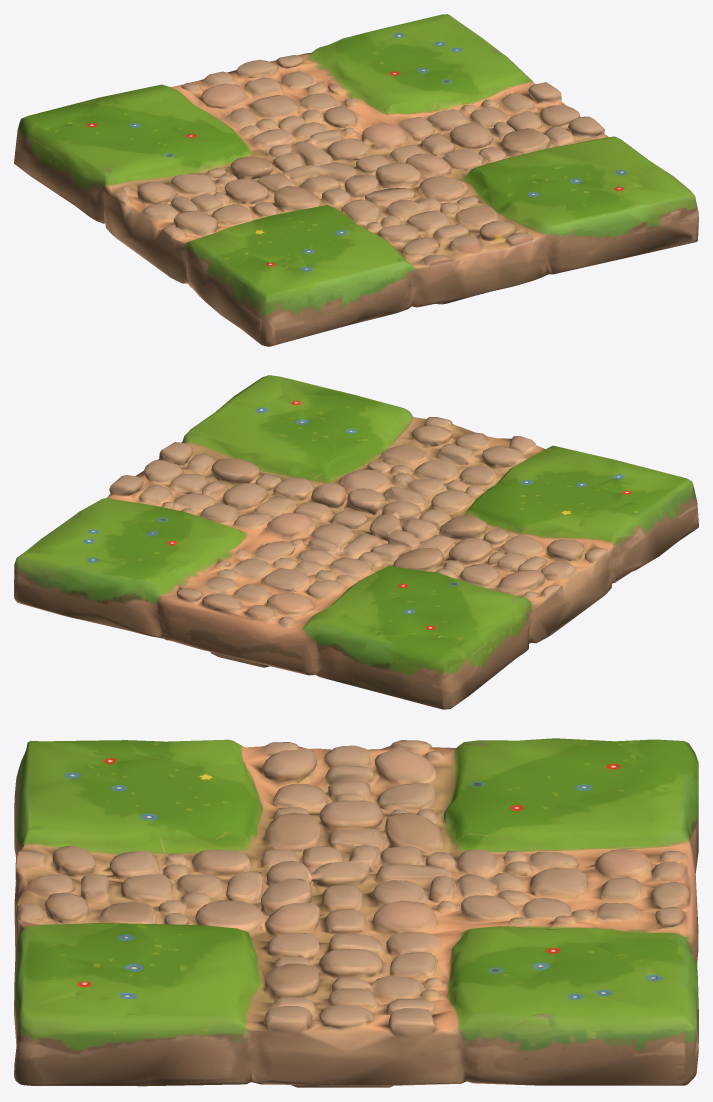
The model's file is path-cross-b.glb.
The picture shows the model from 3 angles, top to bottom: view 1: azimuth 30°, elevation 25°; view 2: azimuth 150°, elevation 25°; view 3: azimuth 270°, elevation 25°; orthographic projection. The views are drawn at different scales.
Visible parts, largest first — view 1: Mesh1.0; view 2: Mesh1.0; view 3: Mesh1.0.
Part boxes in pixels (x1,y1,x2,y2): Mesh1.0: [14, 14, 698, 346]; Mesh1.0: [14, 375, 698, 709]; Mesh1.0: [14, 738, 698, 1087].
Bounding box in the file's own units: 1.9 × 0.2457 × 1.9.
Materials: 1 (1 with a texture image).
